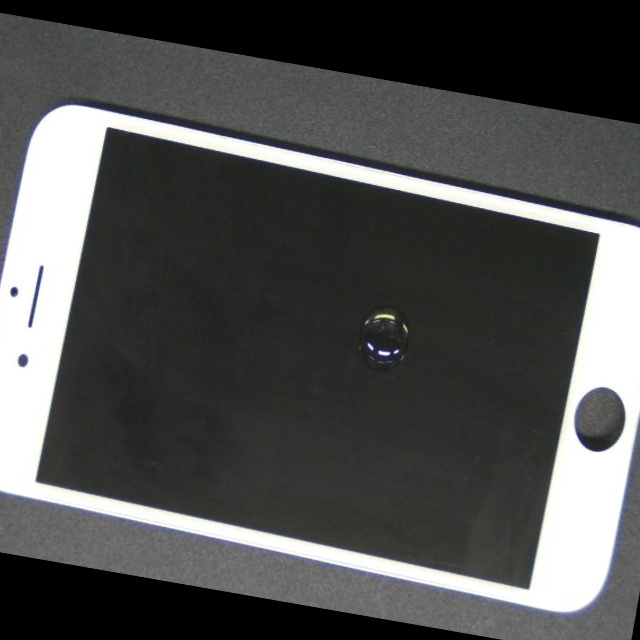oil: (128, 166, 580, 478)
